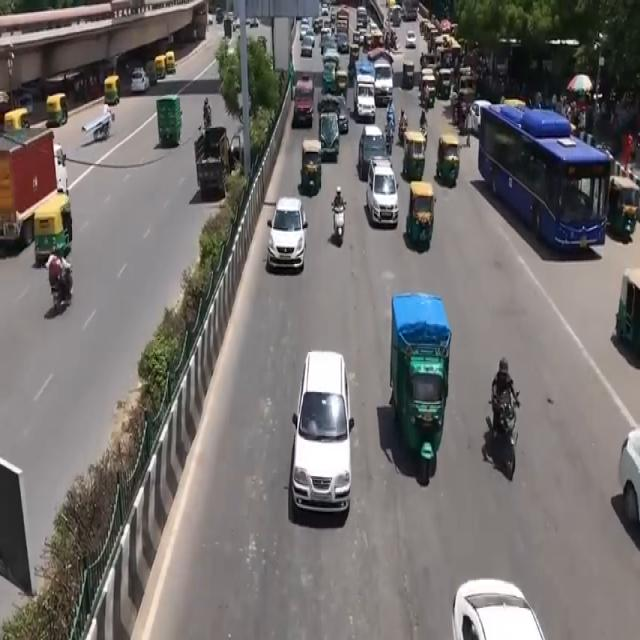BUS: (482, 98, 615, 262)
MOTORCYCLE: (498, 394, 521, 484), (334, 207, 348, 249)
TRUCK: (0, 133, 65, 260)
